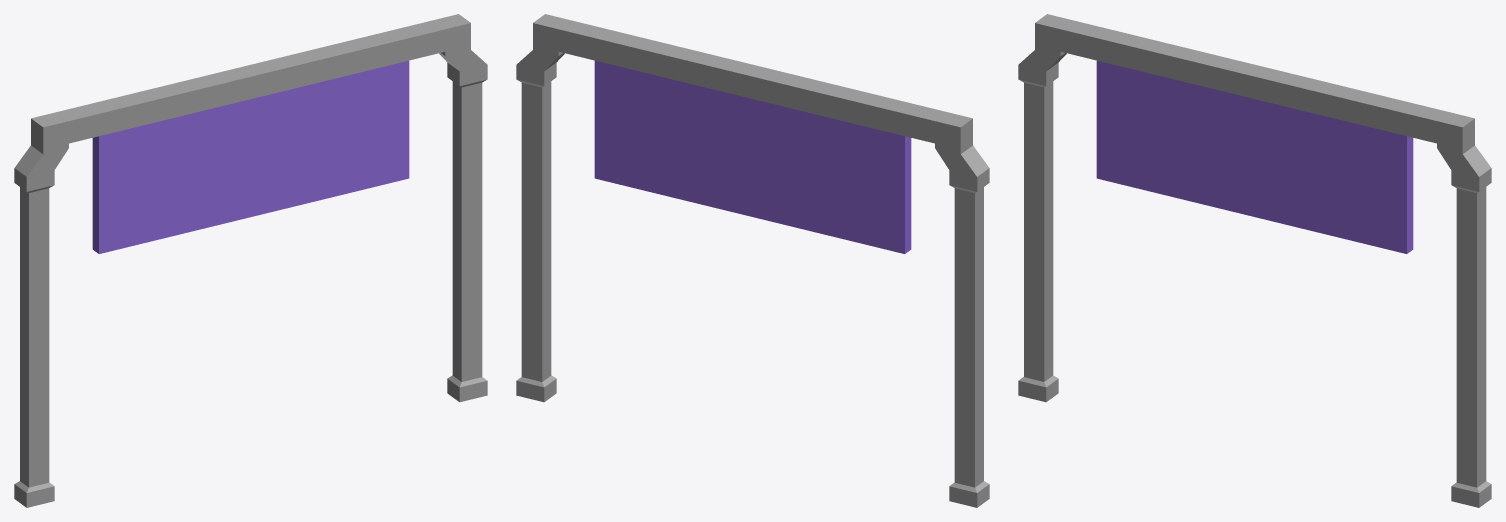
File: PH_Panneaux_Pïllier.fbx
3 views of the same model, side by side, from view 1: azimuth 30°, elevation 25°; view 2: azimuth 150°, elevation 25°; view 3: azimuth 330°, elevation 25° (orthographic).
Visible parts, largest first — view 1: pCube3; view 2: pCube3; view 3: pCube3.
Boxes of the visible parts, <box> form: pCube3: <box>14,14,487,507</box>; pCube3: <box>516,14,989,507</box>; pCube3: <box>1018,14,1491,507</box>.
Bounding box in the file's own units: 42.1 × 32.89 × 1.95.
